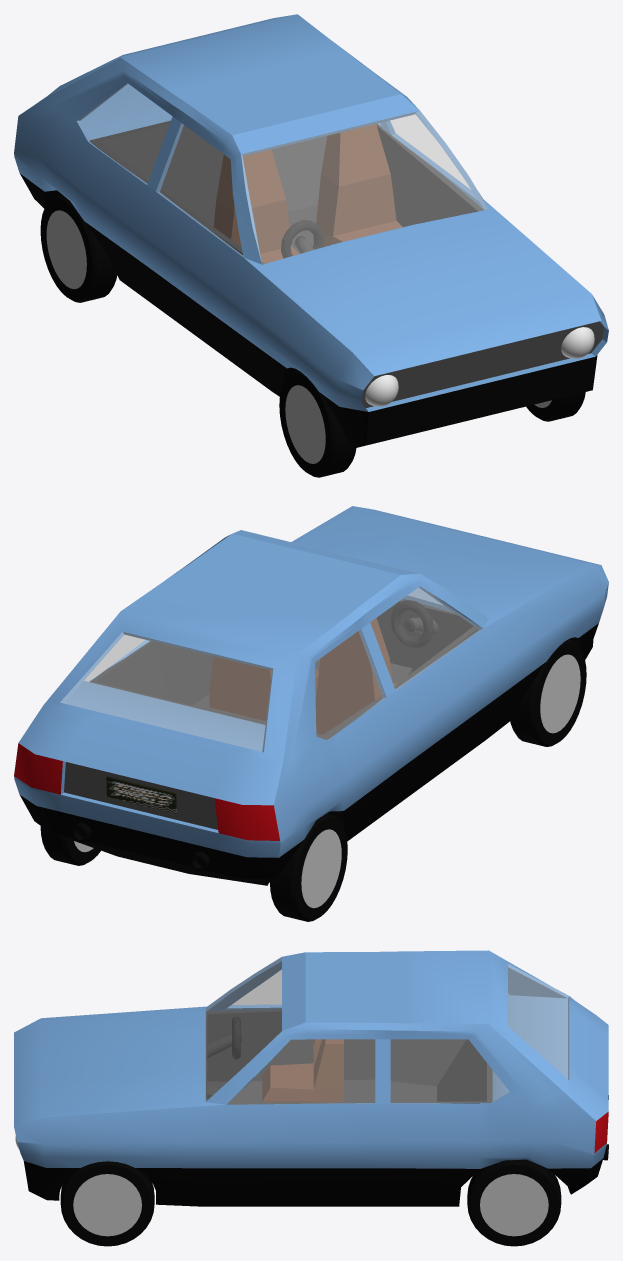
The picture shows the model from 3 angles, top to bottom: view 1: azimuth 30°, elevation 25°; view 2: azimuth 150°, elevation 25°; view 3: azimuth 270°, elevation 25°; orthographic projection. The views are drawn at different scales.
Visible parts, largest first — view 1: e30, back_right.003, front_right.003, front_left.003, steeringwheel.004; view 2: e30, back_right.003, front_right.003, number_plate.004, steeringwheel.004, back_left.003, exhaust.002; view 3: e30, back_left.003, front_left.003.
Boxes of the visible parts, x1,y1,x2,y2 form: e30: (14,14,608,448); back_right.003: (40,194,117,302); front_right.003: (279,370,356,477); front_left.003: (526,392,585,421); steeringwheel.004: (281,220,323,258); e30: (14,506,608,885); back_right.003: (270,813,347,921); front_right.003: (510,639,586,746); number_plate.004: (106,776,176,813); steeringwheel.004: (390,600,433,648); back_left.003: (40,826,100,865); exhaust.002: (71,822,210,871); e30: (14,950,608,1206); back_left.003: (467,1159,561,1246); front_left.003: (60,1161,154,1246).
Bounding box in the file's own units: 265 × 116 × 102.
